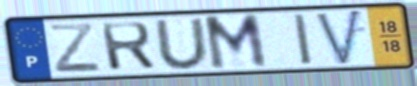I: (291, 12, 317, 68)
M: (201, 11, 271, 73)
R: (98, 20, 158, 72)
U: (151, 16, 212, 71)
V: (312, 7, 365, 68)
Z: (46, 21, 105, 74)
